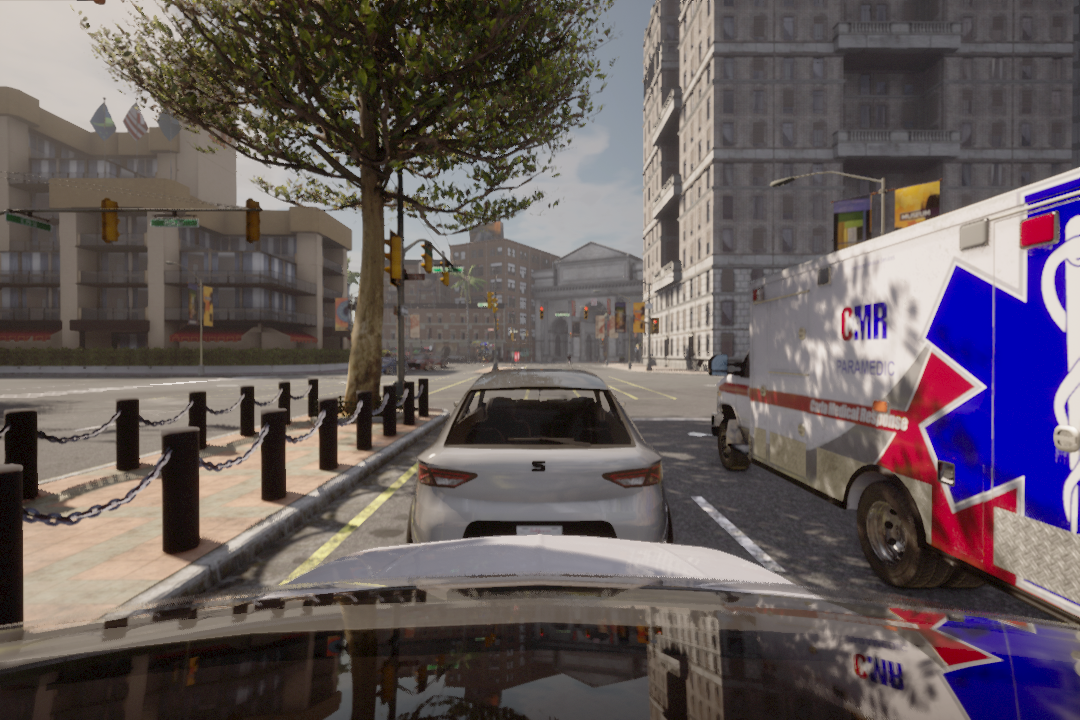TrafficLight: (581, 305, 593, 323), (651, 319, 661, 335), (539, 304, 546, 321)
